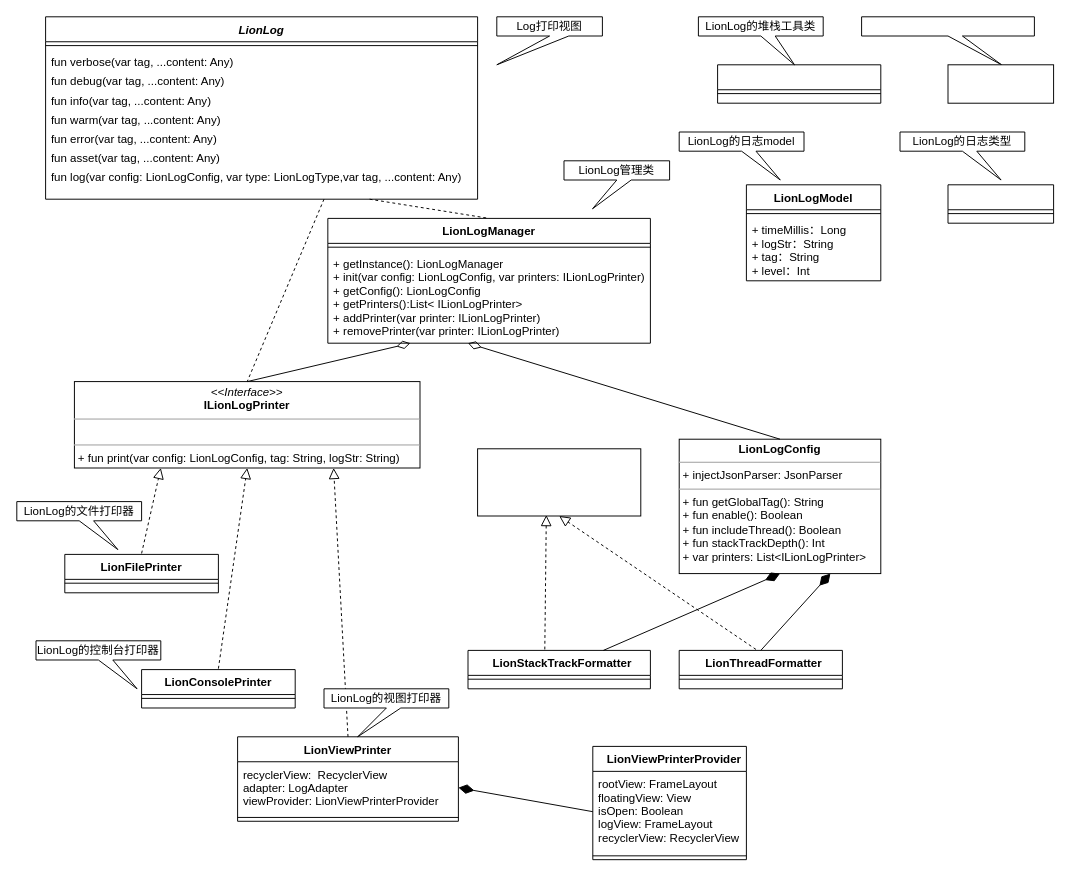
This 1070x876 diagram has some shape labels left out. The shapes that lost their labels are listed below. From the top down, each one's centre as x and y in pixels, then its label:
pixel 947 40: LionLog的日志序列化接口
pixel 799 83: LionStackTrackUtilKt
pixel 1000 83: «interface» JsonParser
pixel 1000 203: LionLogType
pixel 559 482: <<Interface>> ILionLogFormatter + fun format(data: T)
